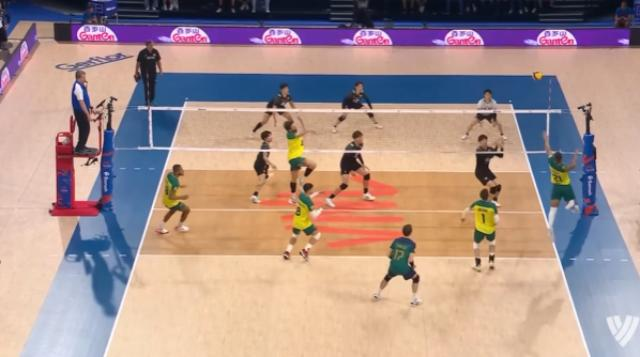Levantador: (457, 180, 507, 286), (243, 127, 284, 207)
Libero: (362, 209, 438, 314), (458, 81, 516, 146)
bola: (524, 62, 548, 90)
